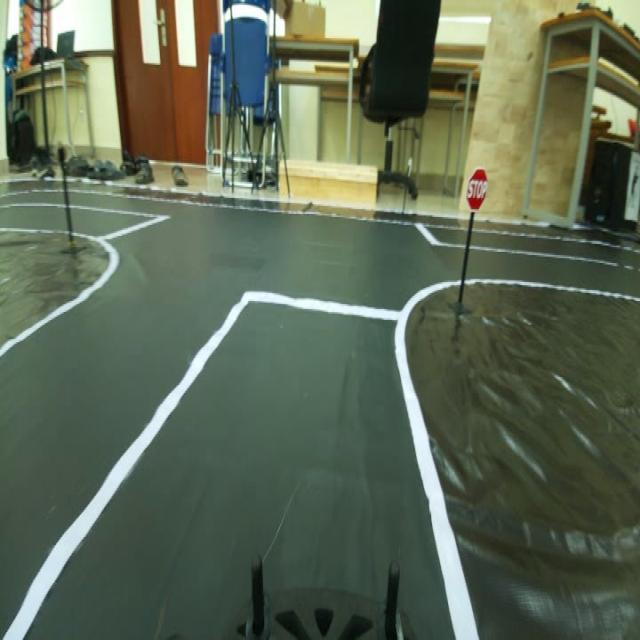stop: (463, 167, 493, 212)
